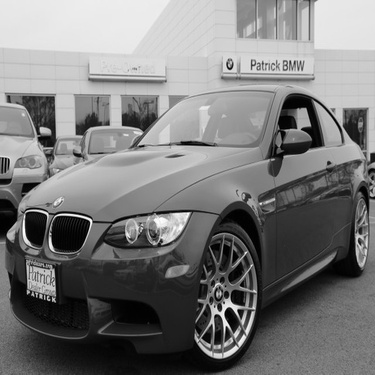car: (9, 78, 373, 367), (1, 98, 47, 229), (71, 118, 153, 180), (46, 119, 93, 193)
